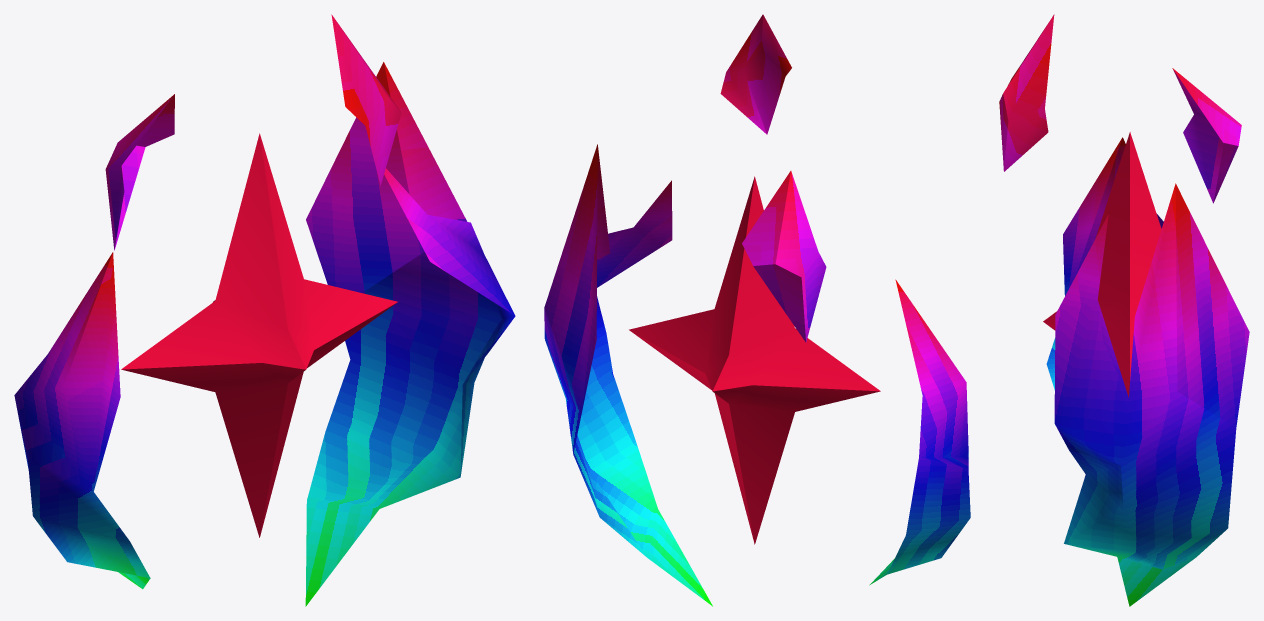
The model's file is proud_soul_crystal.obj.
The picture shows the model from 3 angles, left to right: view 1: azimuth 30°, elevation 25°; view 2: azimuth 150°, elevation 25°; view 3: azimuth 270°, elevation 25°; orthographic projection. The views are drawn at different scales.
Parts seen in each view (by area): view 1: Crystal, TrapezohedronSet, obj8, obj4, obj3, obj7, SphereBase, obj2, TrapezohedronBase1, CrystalSet, obj5, TrapezohedronBase (+5 smaller); view 2: Crystal, TrapezohedronSet, TrapezohedronBase, obj5, TrapezohedronBase1, SphereBase, CrystalBase, CrystalCore, obj6, background, fireBack, CrystalBase1 (+7 smaller); view 3: Crystal, TrapezohedronSet, obj2, obj4, obj7, obj8, TrapezohedronBase1, TrapezohedronBase, fireFront, CrystalBase1, fireBack, SphereBase (+6 smaller).
Part boxes in pixels (x1,y1,x2,y2): Crystal: [14, 20, 515, 598]; TrapezohedronSet: [306, 62, 424, 292]; obj8: [325, 359, 464, 448]; obj4: [345, 313, 500, 380]; obj3: [307, 431, 431, 500]; obj7: [362, 252, 500, 319]; SphereBase: [305, 498, 379, 606]; obj2: [384, 62, 467, 221]; TrapezohedronBase1: [384, 168, 514, 315]; CrystalSet: [331, 15, 387, 125]; obj5: [365, 449, 460, 508]; TrapezohedronBase: [432, 383, 474, 476]; Crystal: [544, 16, 970, 596]; TrapezohedronSet: [544, 144, 597, 412]; TrapezohedronBase: [577, 374, 636, 469]; obj5: [589, 443, 657, 529]; TrapezohedronBase1: [597, 180, 672, 287]; SphereBase: [629, 509, 712, 606]; CrystalBase: [775, 171, 818, 277]; CrystalCore: [742, 171, 790, 265]; obj6: [753, 264, 805, 342]; background: [744, 53, 785, 134]; fireBack: [720, 71, 766, 134]; CrystalBase1: [801, 251, 826, 342]; Crystal: [999, 16, 1238, 595]; TrapezohedronSet: [1175, 183, 1249, 427]; obj2: [1129, 184, 1177, 397]; obj4: [1120, 428, 1236, 507]; obj7: [1120, 391, 1235, 464]; obj8: [1123, 481, 1231, 552]; TrapezohedronBase1: [1054, 214, 1108, 422]; TrapezohedronBase: [1064, 474, 1138, 552]; fireFront: [1003, 14, 1054, 120]; CrystalBase1: [1183, 114, 1223, 203]; fireBack: [1004, 109, 1048, 171]; SphereBase: [1117, 557, 1195, 606].
Bounding box in the file's own units: 1.07 × 1.37 × 0.5281.
